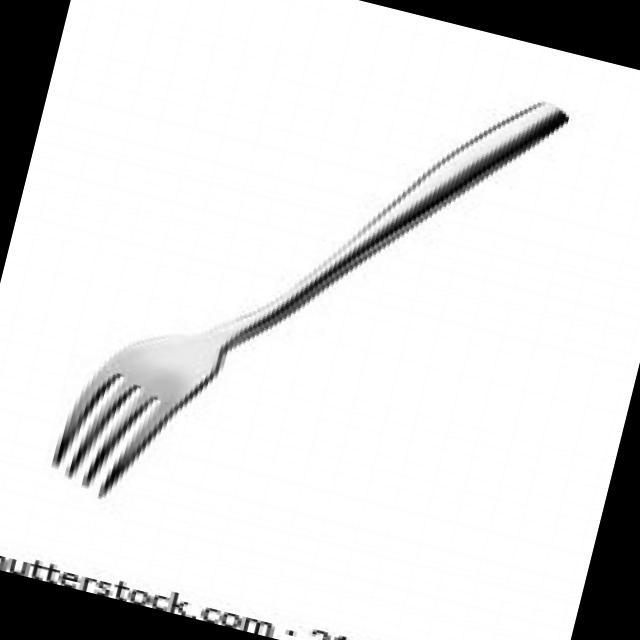fork: (39, 4, 590, 594)
